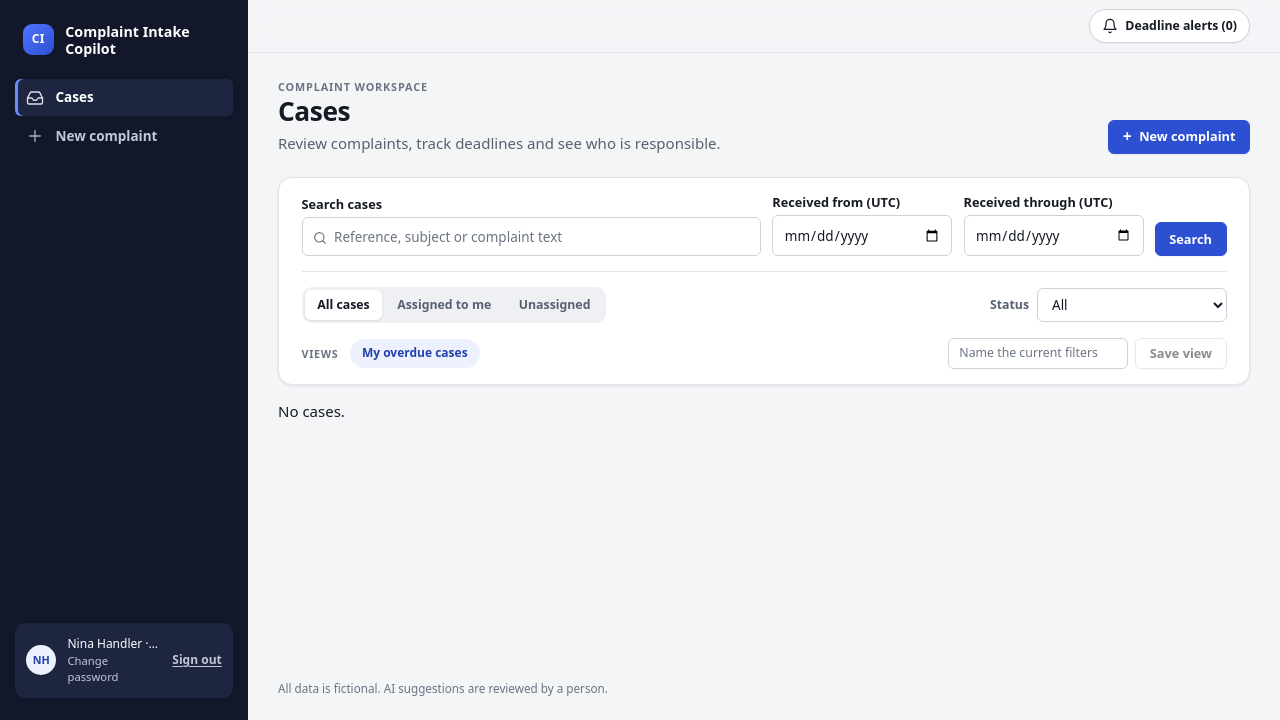
Test: changing your own password › is in the sidebar and can be cancelled
What coordinates should you click on to do the following:
click the link "Change password"
I would click on:
 (93, 668)
Its box is [68,652,118,684].
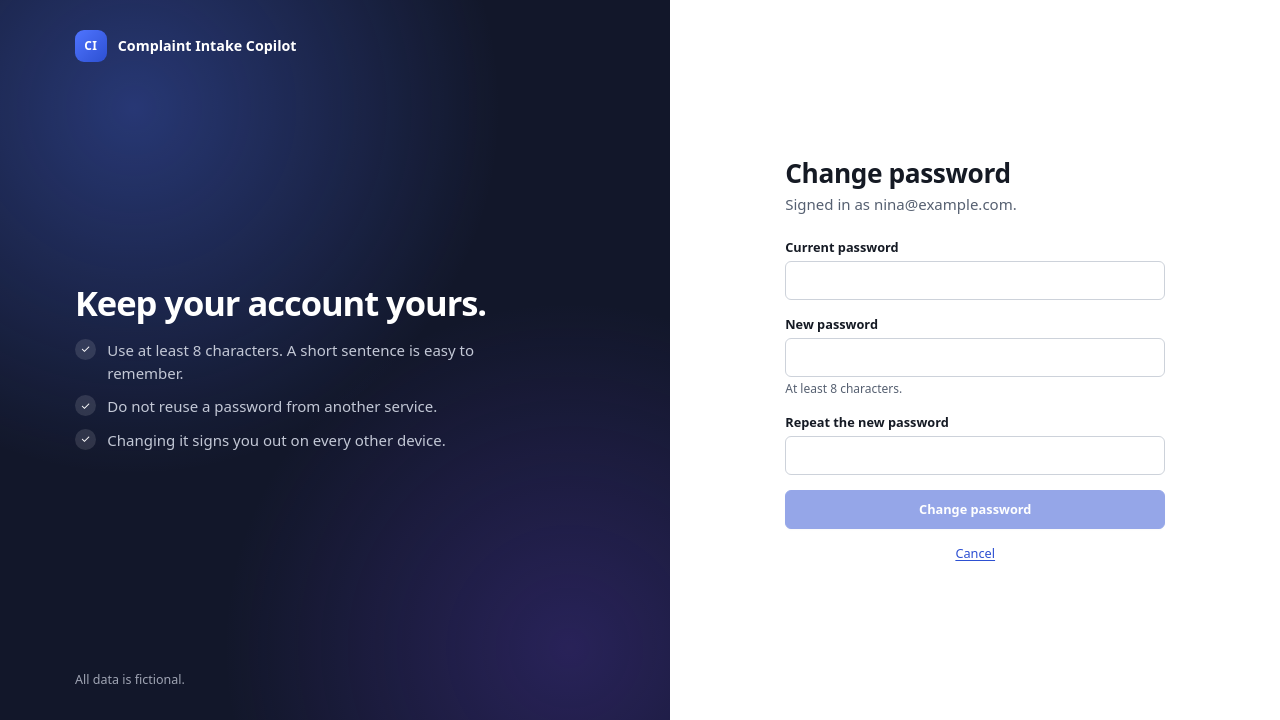
expect the heading "Change password" is shown: met, box [785,155,1011,191]
expect the password field labelled "Current password" is shown: met, box [785,261,1165,300]
What coordinates should you click on to do the following:
click the link "Cancel"
I would click on:
 (975, 553)
Its box is [955,544,995,562].
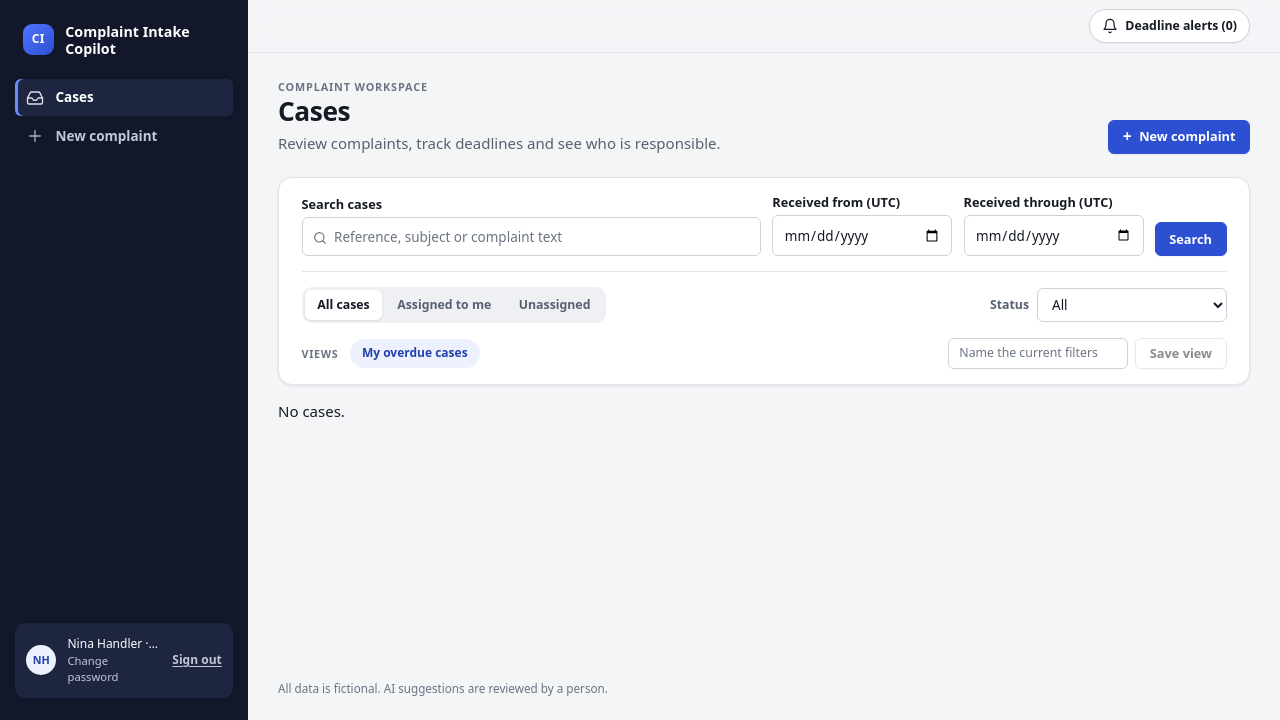
expect the heading "Cases" is shown: met, box [278,93,350,129]
